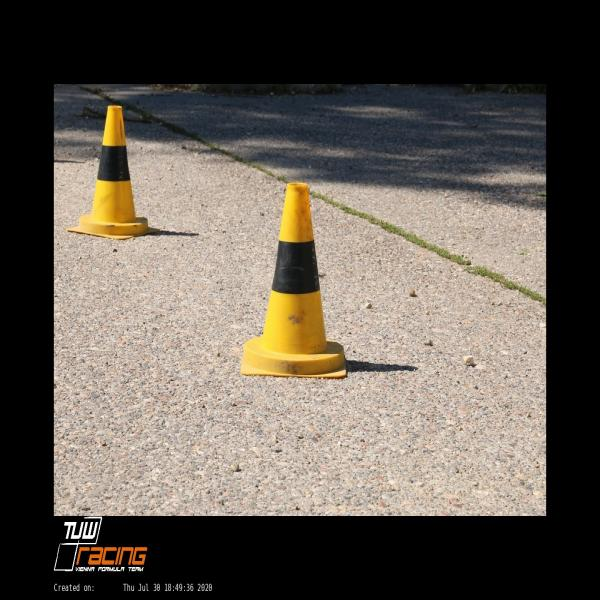yellow_cone: (241, 181, 346, 378), (69, 106, 160, 238)
